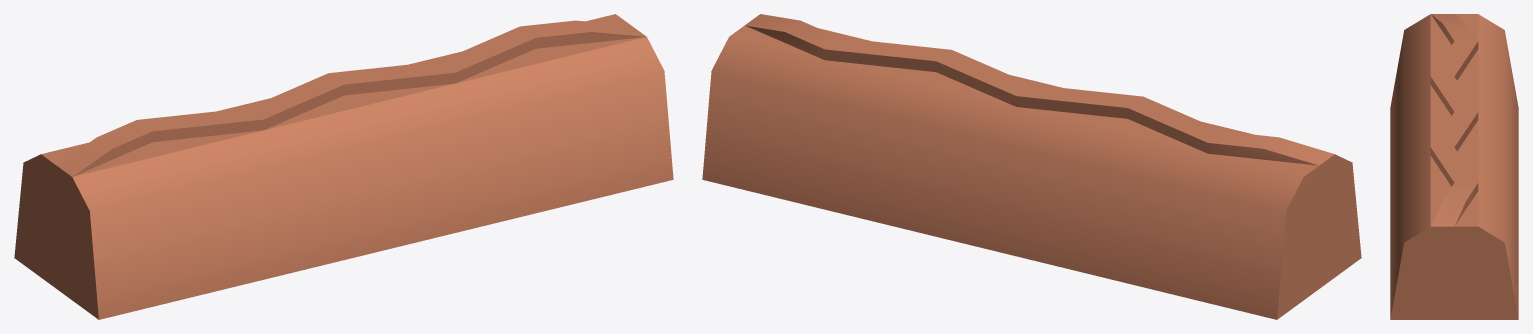
The model's file is candyBar.GLB.
3 views of the same model, side by side, from view 1: azimuth 30°, elevation 25°; view 2: azimuth 150°, elevation 25°; view 3: azimuth 270°, elevation 25° (orthographic). The views are drawn at different scales.
Parts seen in each view (by area): view 1: candyBar; view 2: candyBar; view 3: candyBar.
Boxes of the visible parts, x1,y1,x2,y2 form: candyBar: [14, 14, 673, 319]; candyBar: [702, 14, 1361, 319]; candyBar: [1390, 14, 1518, 319].
Bounding box in the file's own units: 0.2924 × 0.0653 × 0.0745.
